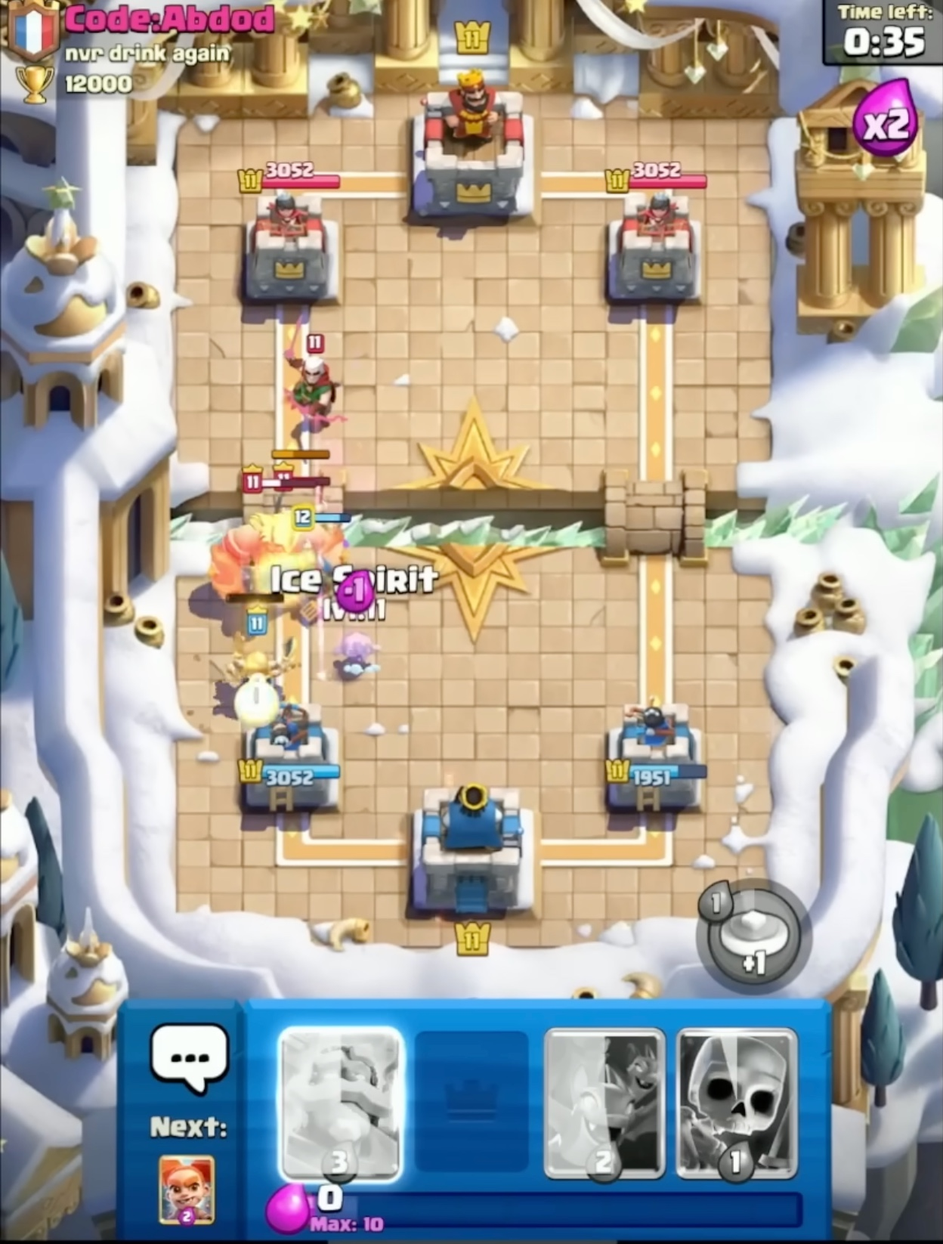hero-giant: (210, 460, 347, 618)
hero-mini-pekka: (260, 439, 339, 531)
magic-archer: (277, 313, 353, 440)
